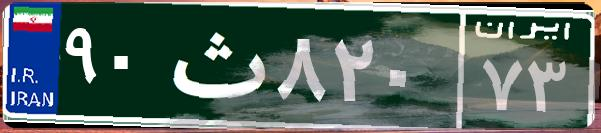0: (385, 28, 445, 110), (110, 28, 158, 105)
2: (330, 28, 385, 110)
3: (525, 38, 570, 115)
7: (475, 38, 525, 113)
8: (273, 28, 330, 110)
9: (57, 26, 110, 107)
ث: (158, 15, 273, 115)
